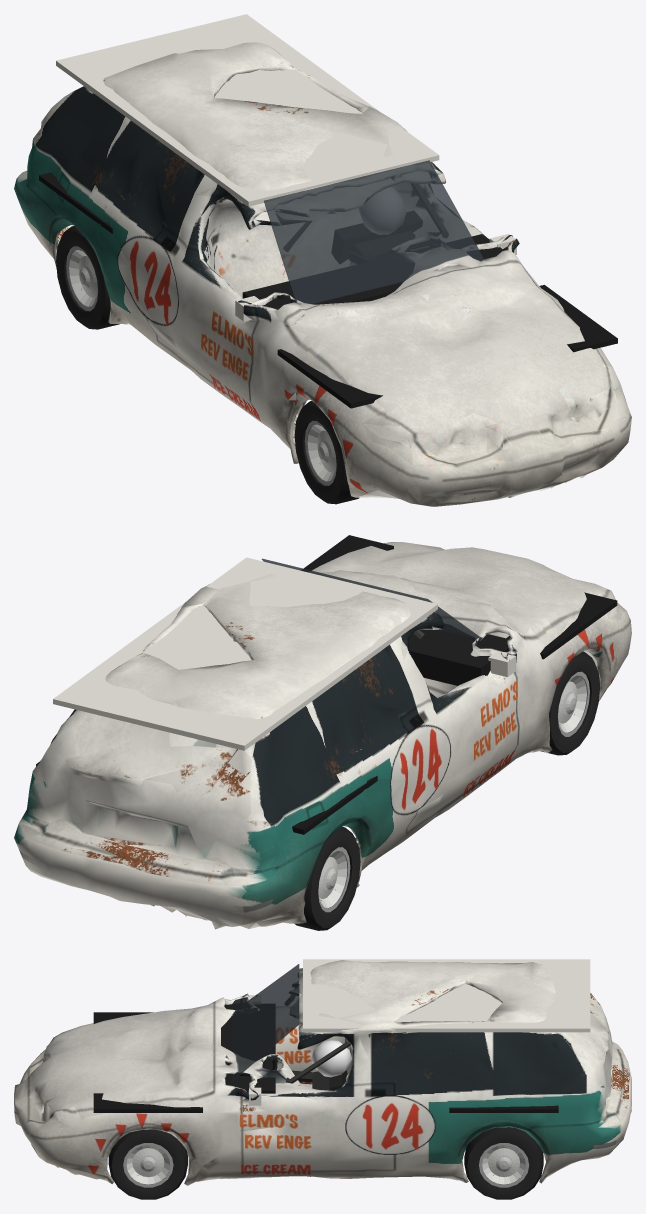
3 views of the same model, one above another, from view 1: azimuth 30°, elevation 25°; view 2: azimuth 150°, elevation 25°; view 3: azimuth 270°, elevation 25° (orthographic). The views are drawn at different scales.
Visible parts, largest first — view 1: body, wheel_rr, wheel_fr; view 2: body, wheel_rr, wheel_fr; view 3: body, wheel_rl, wheel_fl.
Boxes of the visible parts, bbox=[...] form: body: bbox=[14, 14, 631, 506]; wheel_rr: bbox=[56, 225, 119, 329]; wheel_fr: bbox=[294, 401, 359, 504]; body: bbox=[14, 535, 631, 929]; wheel_rr: bbox=[294, 826, 360, 930]; wheel_fr: bbox=[540, 651, 600, 755]; body: bbox=[14, 959, 631, 1185]; wheel_rl: bbox=[464, 1127, 543, 1199]; wheel_fl: bbox=[108, 1129, 187, 1199].
Bounding box in the file's own units: 1.74 × 1.36 × 4.52.
Materials: 3 (2 with a texture image).
